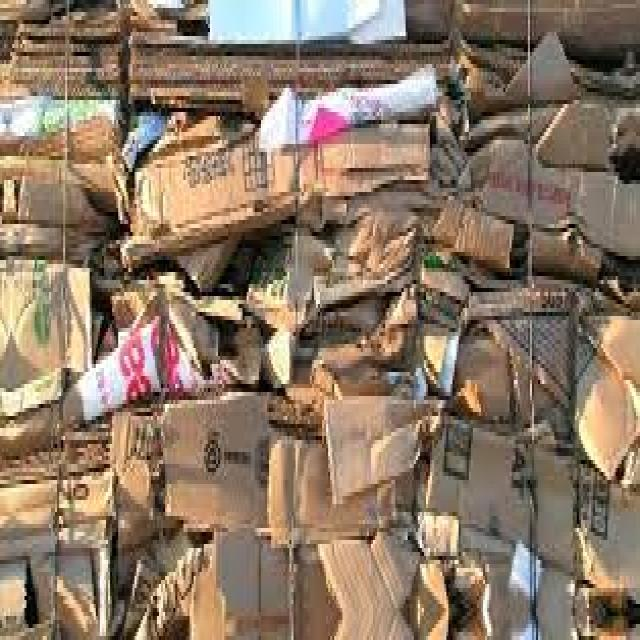Papel: (124, 136, 321, 278), (131, 30, 455, 111), (1, 473, 117, 640), (163, 393, 282, 534), (0, 118, 128, 235), (0, 263, 90, 421), (572, 318, 639, 485), (290, 541, 396, 640), (409, 193, 516, 271), (459, 0, 640, 45)
